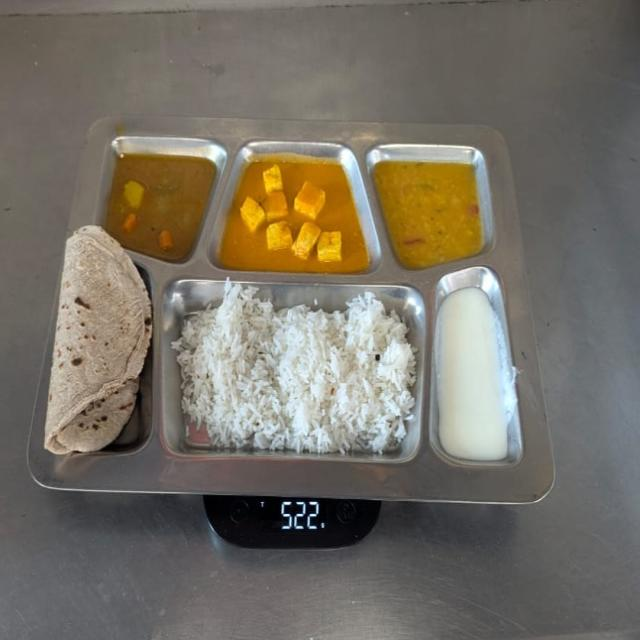Bread: (45, 226, 147, 448)
Curd: (438, 302, 502, 458)
Dal: (374, 162, 479, 264)
Paneer Curry: (235, 157, 359, 272)
Sambhar: (119, 152, 208, 248)
White Rice: (185, 308, 409, 450)
